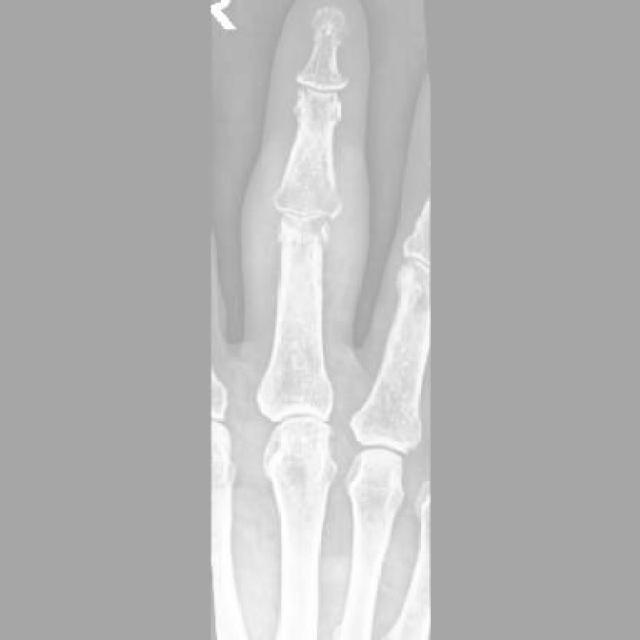Fracture: (276, 220, 330, 256), (389, 263, 426, 294)
